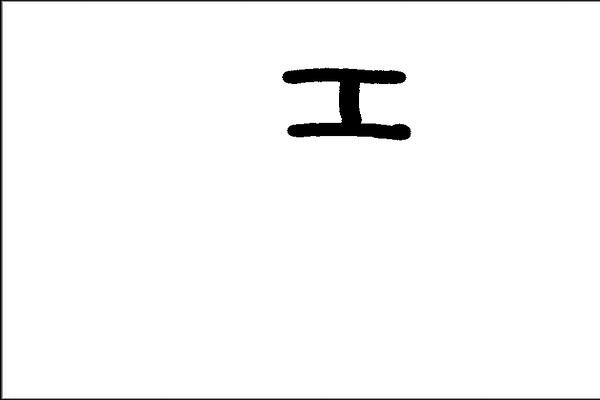i: (277, 58, 425, 152)
